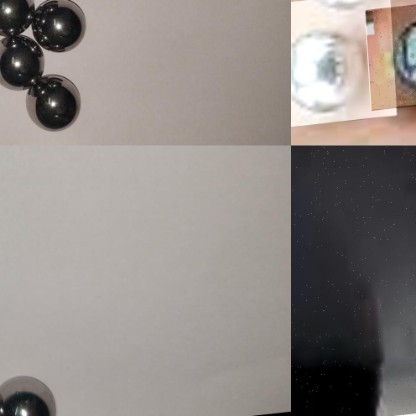ironball: (291, 145, 415, 415), (291, 0, 394, 129), (364, 3, 415, 113), (31, 0, 88, 57), (24, 71, 77, 130), (0, 36, 49, 90), (0, 371, 58, 414), (0, 0, 43, 37)
